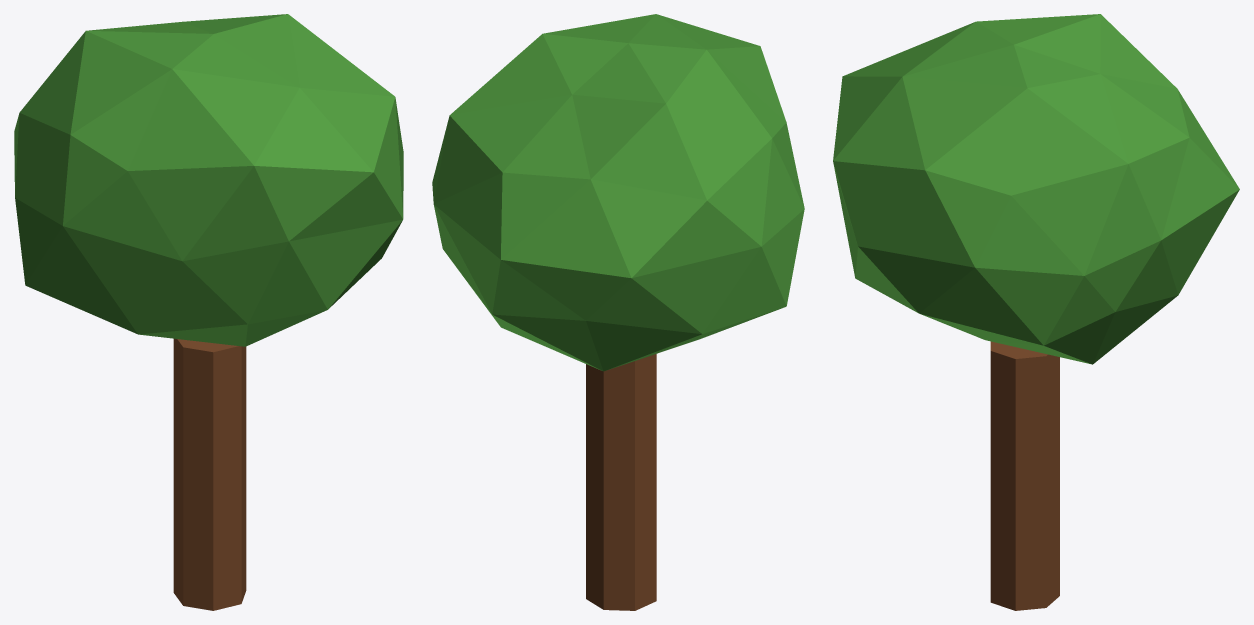
File: tree.glb
3 renders of one model, left to right at view 1: azimuth 30°, elevation 25°; view 2: azimuth 150°, elevation 25°; view 3: azimuth 270°, elevation 25°, orthographic. The views are drawn at different scales.
Visible parts, largest first — view 1: Cylinder; view 2: Cylinder; view 3: Cylinder.
Boxes of the visible parts, x1=… form: Cylinder: x1=14, y1=14, x2=403, y2=610; Cylinder: x1=432, y1=14, x2=804, y2=610; Cylinder: x1=833, y1=14, x2=1239, y2=610.
Bounding box in the file's own units: 1.53 × 2.39 × 1.6.
